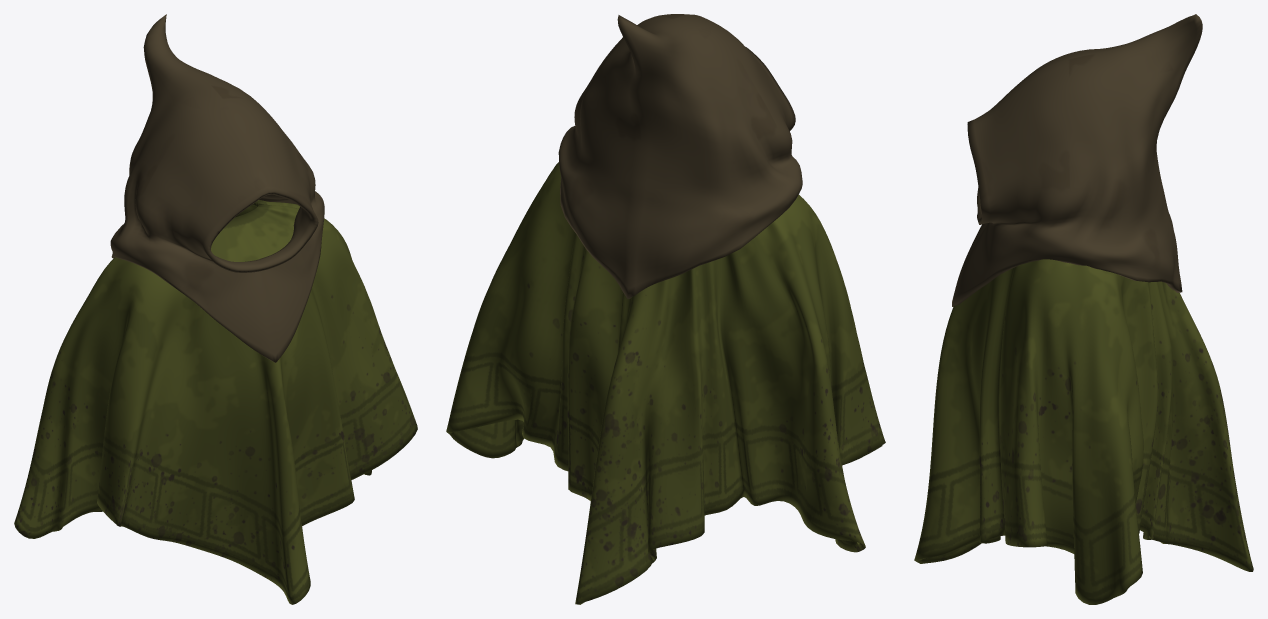
Rendered from poncho and hood.obj.
The picture shows the model from 3 angles, left to right: view 1: azimuth 30°, elevation 25°; view 2: azimuth 150°, elevation 25°; view 3: azimuth 270°, elevation 25°; orthographic projection. The views are drawn at different scales.
Parts seen in each view (by area): view 1: poncho, hood; view 2: poncho, hood; view 3: poncho, hood.
Part boxes in pixels (x1=…): poncho: x1=14, y1=200, x2=417, y2=604; hood: x1=110, y1=14, x2=324, y2=362; poncho: x1=446, y1=162, x2=885, y2=604; hood: x1=558, y1=14, x2=802, y2=298; poncho: x1=914, y1=259, x2=1253, y2=604; hood: x1=952, y1=14, x2=1202, y2=306.
Bounding box in the file's own units: 0.8651 × 1.14 × 0.6339.
